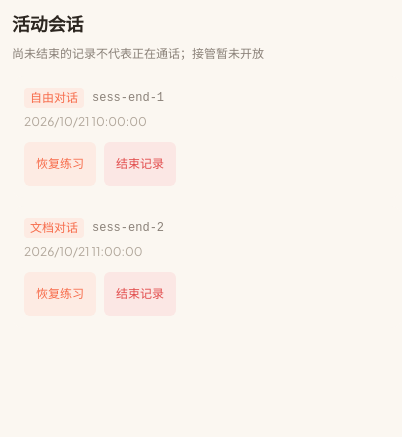
Test: ActiveSessions Component › Cross-platform lifecycle driving dashboard discovery › Explicit End Active Session (CP-02 §2) › disables other rows and prevents replacing in-flight target while ending is in-flight
Click the button with test id "end-session-button-sess-end-1": (140, 164) [104,142,176,186]
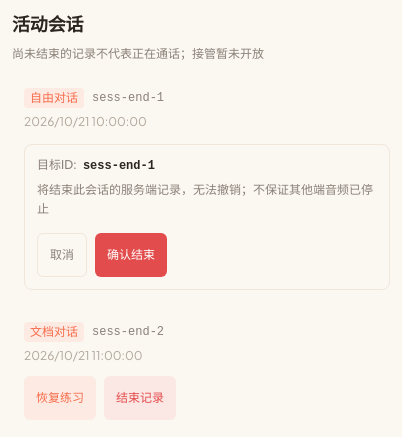
Click the button with test id "confirm-end-button-sess-end-1": (131, 254) [95,232,167,276]
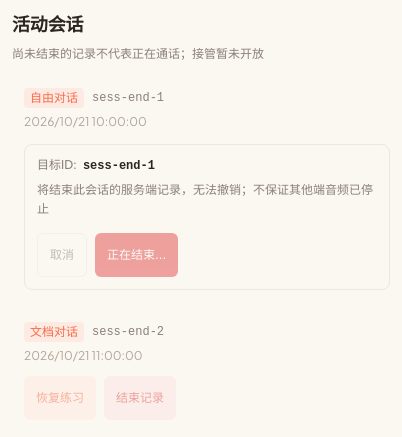
Result: the button with test id "end-session-button-sess-end-2" is disabled
// 点击 sess-end-2 不起作用，不能替换在途目标
Click the button with test id "end-session-button-sess-end-2": (140, 398) [104,376,176,420]
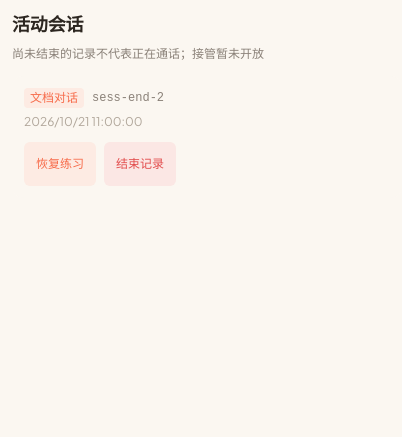
Result: the button with test id "end-session-button-sess-end-2" is enabled at [104,142,176,186]
